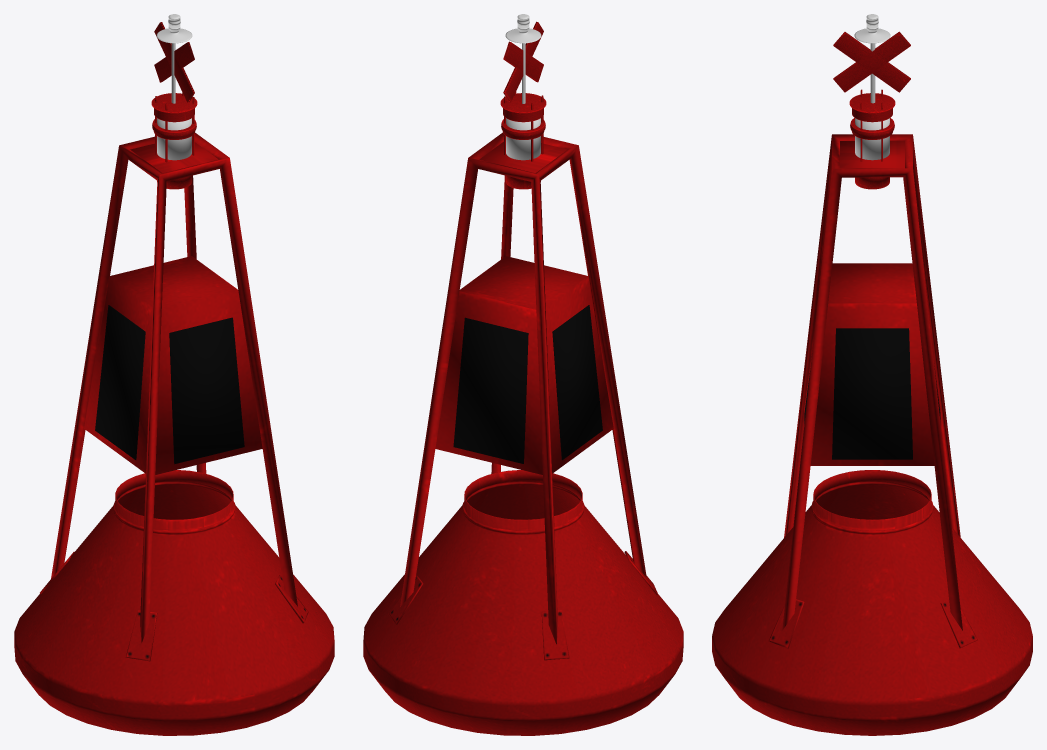
The model's file is boya_marina.glb.
3 renders of one model, left to right at view 1: azimuth 30°, elevation 25°; view 2: azimuth 150°, elevation 25°; view 3: azimuth 270°, elevation 25°, orthographic.
Parts seen in each view (by area): view 1: Cylinder, Cube.002, Cube.020, Cube.019, Cube, Cylinder.003, Cylinder.002, Cylinder.008, Cube.007, Cube.008, Cylinder.006; view 2: Cylinder, Cube.002, Cube.022, Cube.019, Cube, Cylinder.003, Cylinder.007, Cylinder.002, Cube.007, Cube.008, Cylinder.006; view 3: Cylinder, Cube.002, Cube.021, Cube.007, Cube.008, Cube, Cylinder.003, Cylinder.002, Cylinder.009, Cylinder.010, Cylinder.006.
Part boxes in pixels (bbox=[...]): Cylinder: bbox=[14, 470, 334, 735]; Cube.002: bbox=[51, 132, 297, 642]; Cube.020: bbox=[169, 317, 244, 464]; Cube.019: bbox=[95, 305, 145, 459]; Cube: bbox=[130, 140, 218, 173]; Cylinder.003: bbox=[151, 93, 197, 122]; Cylinder.002: bbox=[157, 118, 191, 160]; Cylinder.008: bbox=[125, 610, 157, 661]; Cube.007: bbox=[154, 22, 194, 102]; Cube.008: bbox=[154, 42, 194, 82]; Cylinder.006: bbox=[156, 14, 192, 43]; Cylinder: bbox=[363, 470, 683, 735]; Cube.002: bbox=[400, 132, 646, 644]; Cube.022: bbox=[453, 317, 528, 463]; Cube.019: bbox=[552, 305, 602, 460]; Cube: bbox=[479, 141, 567, 173]; Cylinder.003: bbox=[500, 93, 546, 122]; Cylinder.007: bbox=[541, 610, 569, 660]; Cylinder.002: bbox=[506, 118, 540, 160]; Cube.007: bbox=[503, 41, 543, 82]; Cube.008: bbox=[503, 21, 543, 102]; Cylinder.006: bbox=[505, 14, 541, 43]; Cylinder: bbox=[712, 470, 1032, 735]; Cube.002: bbox=[782, 134, 962, 630]; Cube.021: bbox=[832, 328, 912, 459]; Cube.007: bbox=[833, 31, 910, 92]; Cube.008: bbox=[833, 32, 910, 92]; Cube: bbox=[840, 140, 904, 168]; Cylinder.003: bbox=[849, 93, 895, 122]; Cylinder.002: bbox=[855, 118, 889, 160]; Cylinder.009: bbox=[768, 599, 804, 648]; Cylinder.010: bbox=[940, 599, 977, 648]; Cylinder.006: bbox=[854, 14, 890, 43].
Size of the model in its own units: 6.02 by 13.65 by 6.02.
3 materials, 1 textured.
